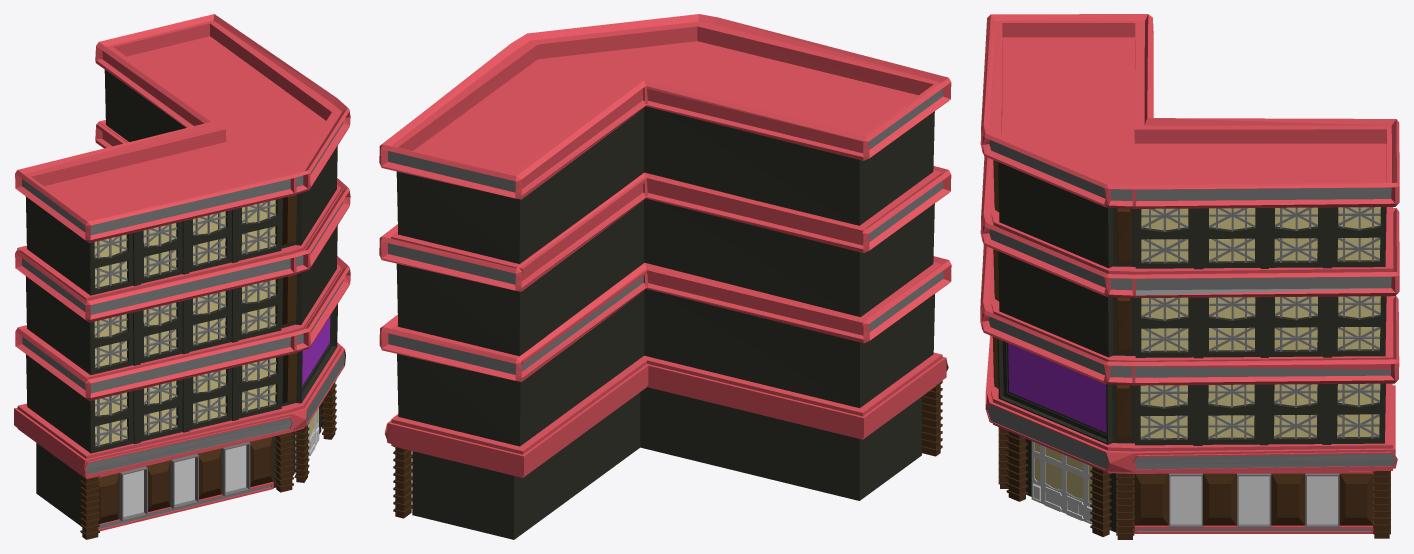
The model's file is Leilao.fbx.
The picture shows the model from 3 angles, left to right: view 1: azimuth 30°, elevation 25°; view 2: azimuth 150°, elevation 25°; view 3: azimuth 270°, elevation 25°; orthographic projection. The views are drawn at different scales.
Parts seen in each view (by area): view 1: Leilao; view 2: Leilao; view 3: Leilao.
Boxes of the visible parts, left/top/right/bottom form: Leilao: left=14, top=14, right=350, bottom=539; Leilao: left=379, top=14, right=951, bottom=539; Leilao: left=980, top=14, right=1399, bottom=539.
Size of the model in its own units: 2703 by 2626 by 2757.
